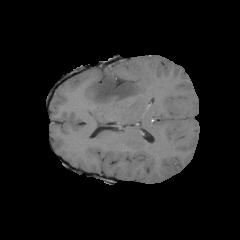glioma: (87, 70, 143, 126)
